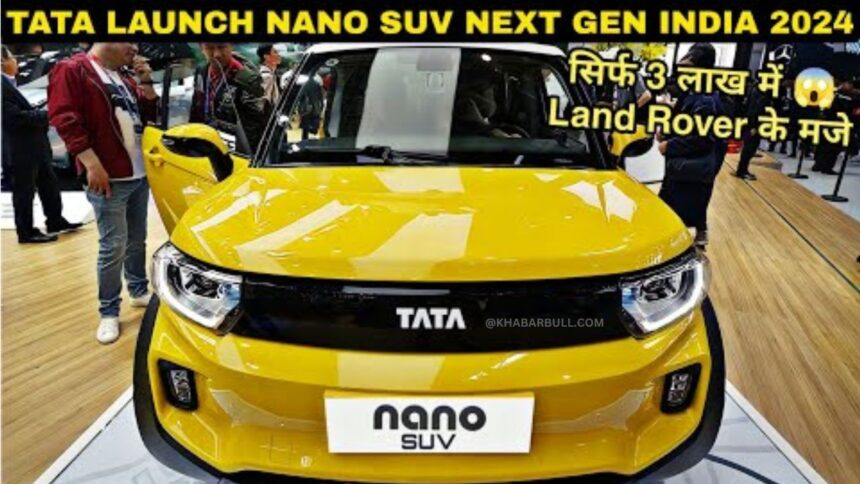Nano: (135, 40, 726, 484)
